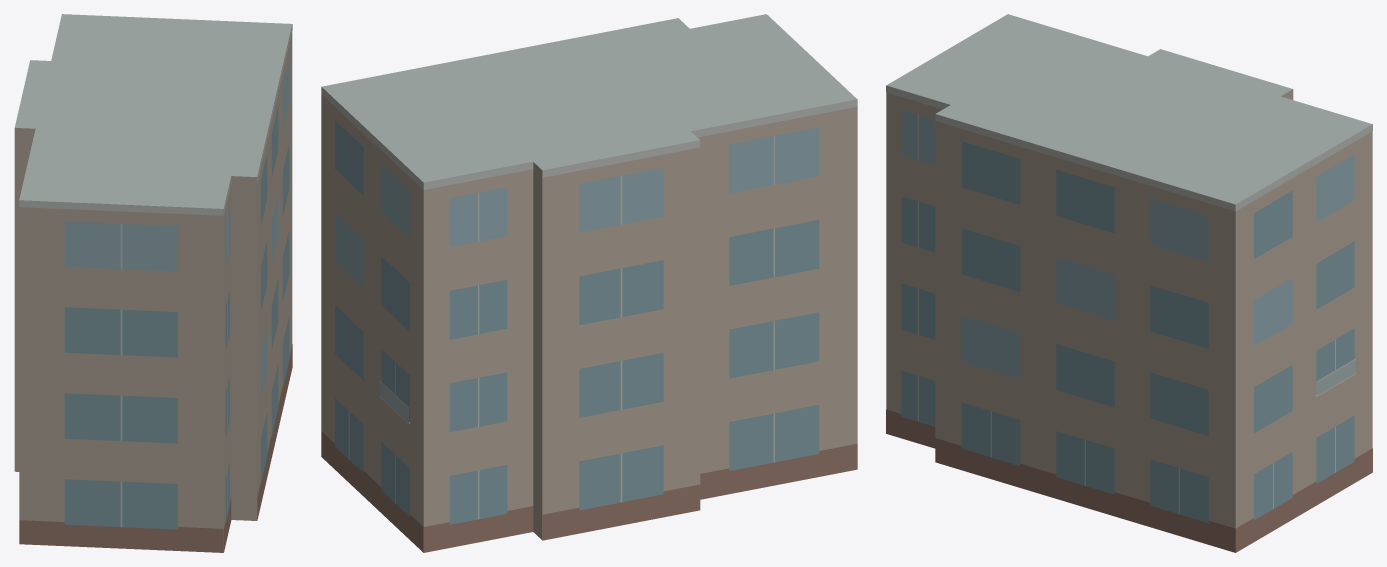
Rendered from survey-upis-32642401.glb.
3 renders of one model, left to right at view 1: azimuth 30°, elevation 25°; view 2: azimuth 150°, elevation 25°; view 3: azimuth 270°, elevation 25°, orthographic. The views are drawn at different scales.
Parts seen in each view (by area): view 1: survey-upis-32642401.tmp; view 2: survey-upis-32642401.tmp; view 3: survey-upis-32642401.tmp.
Boxes of the visible parts, box(x1,y1,x2,y2) form: survey-upis-32642401.tmp: box(14, 14, 292, 552); survey-upis-32642401.tmp: box(321, 14, 857, 552); survey-upis-32642401.tmp: box(886, 14, 1372, 552).
Size of the model in its own units: 14.32 by 12.2 by 15.45.
